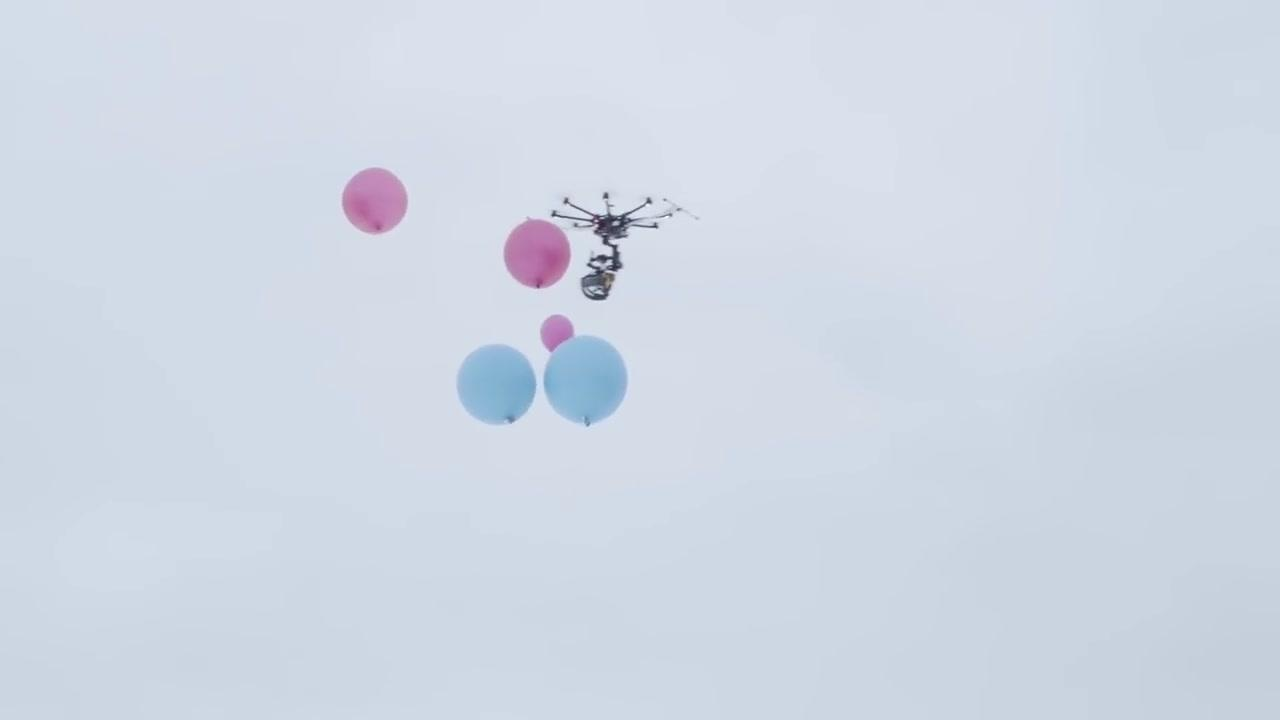UAV: (552, 193, 701, 247)
